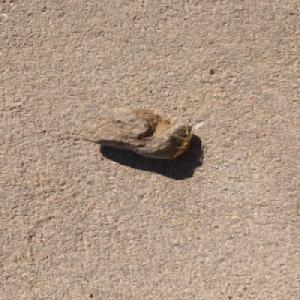Rock: (78, 106, 194, 159)
